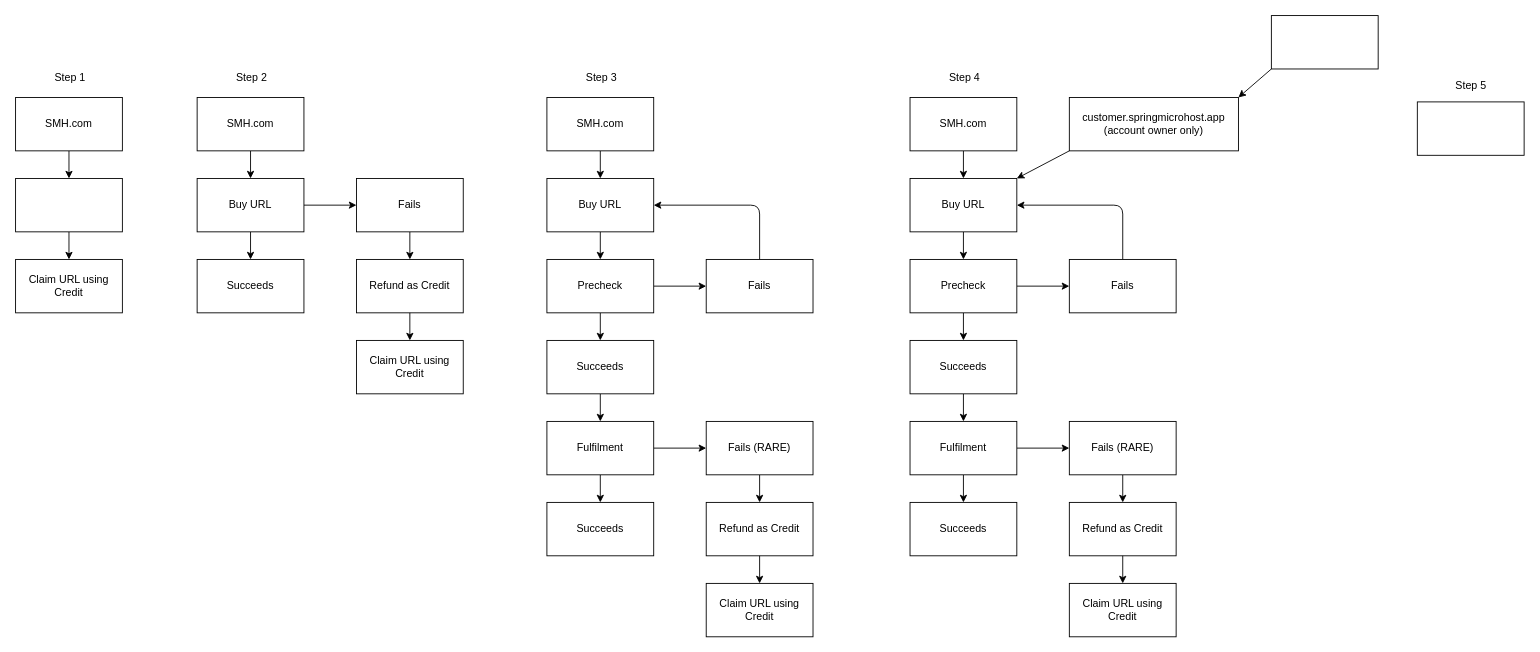
The diagram is 1540 pixels wide and 652 high, and some of its shapes have lost their labels. The centre of each missing label's shape, as x and y in pixels:
"Buy Credit" goes at (68,205).
"In-suite checkout feature" goes at (1324,42).
"Markup Pricing" goes at (1470,128).
